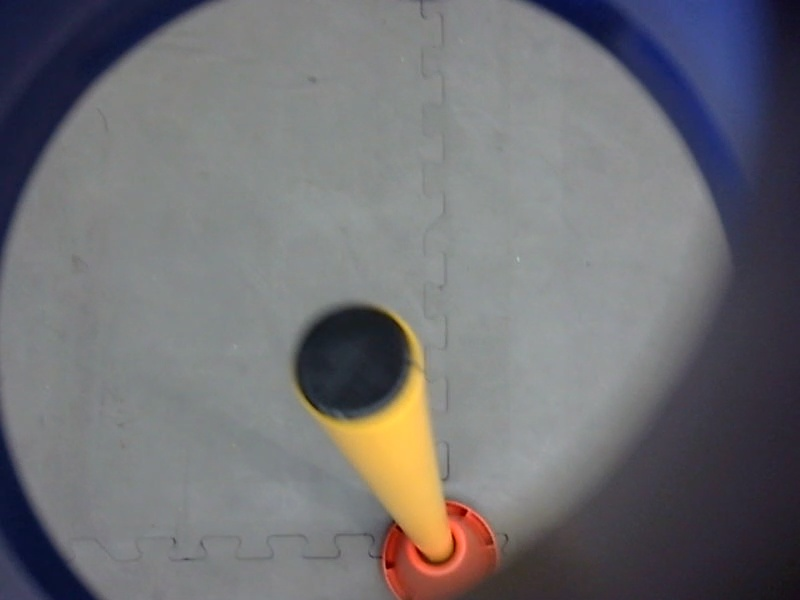tip: (280, 286, 433, 435)
